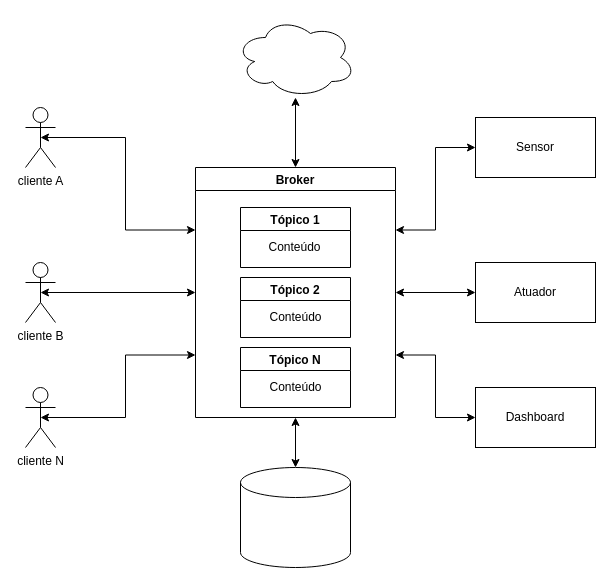
The diagram is 613 pixels wide and 585 high, and some of its shapes have lost their labels. The centre of each missing label's shape, as x and y in pixels:
"Banco de Dados" goes at point (295, 517).
"Nuvem" goes at point (295, 57).
